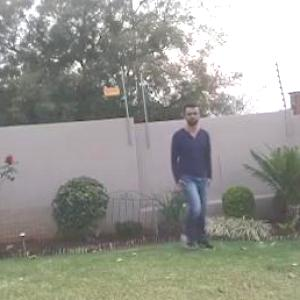follow: (153, 90, 221, 279)
